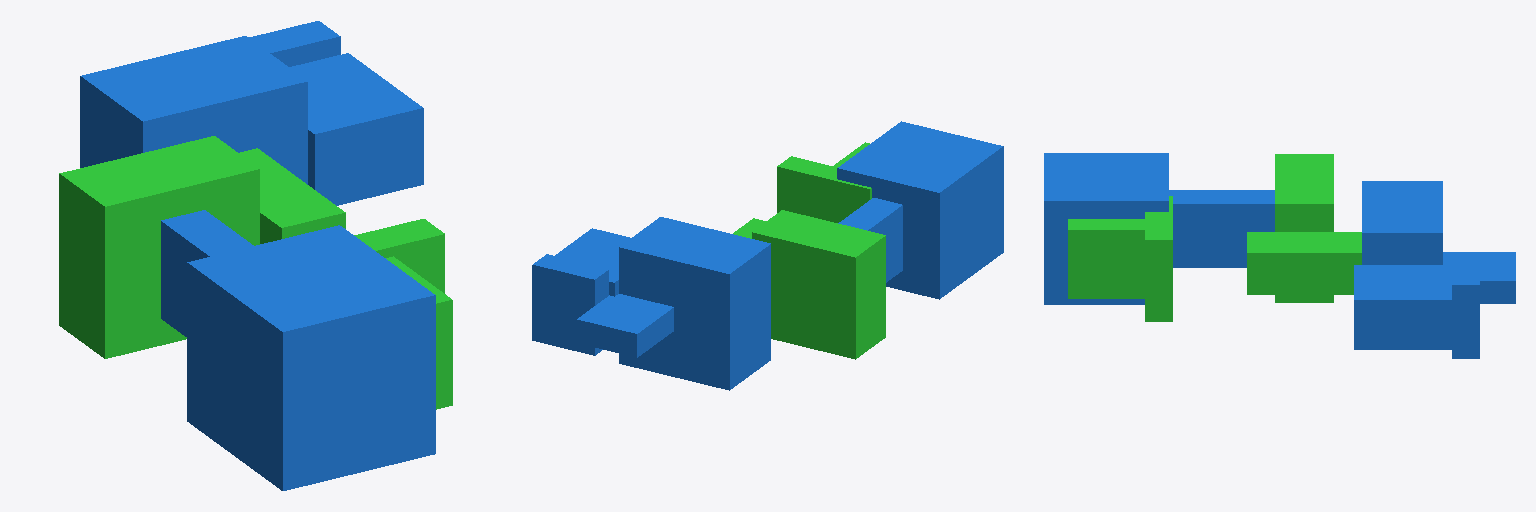
The robot description file, URDF, robot "robot":
<robot name = "robot">
    <link name="Link0">
        <inertial>
            <origin xyz="0 0 2" rpy="0 0 0"/>
            <mass value="0.16188097376707722" />
            <inertia ixx="100" ixy="0" ixz="0" iyy="100" iyz="0" izz="100" />
        </inertial>
        <visual>
            <origin xyz="0 0 2" rpy="0 0 0"/>
            <geometry>
                <box size="0.667022004702574 0.9703244934421581 0.2501143748173449" />
            </geometry>
            <material name="No Sensor">
                <color rgba="0.184 0.553 0.933 1.0"/>
            </material>
        </visual>
        <collision>
            <origin xyz="0 0 2" rpy="0 0 0"/>
            <geometry>
                <box size="0.667022004702574 0.9703244934421581 0.2501143748173449" />
            </geometry>
        </collision>
    </link>
    <joint name="Link0_Link1" type="revolute">
       <parent link="Link0"/>
       <child  link="Link1"/>
       <origin rpy="0 0 0" xyz="0.333511002351287 0 2" />
       <axis xyz="1 0 0"/>
       <limit effort="0.0" lower="-3.14159" upper="3.14159" velocity="0.0"/>
    </joint>
    <link name="Link1">
        <inertial>
            <origin xyz="0.3429974510710019 0 0" rpy="0 0 0"/>
            <mass value="0.15136330318765737" />
            <inertia ixx="100" ixy="0" ixz="0" iyy="100" iyz="0" izz="100" />
        </inertial>
        <visual>
            <origin xyz="0.3429974510710019 0 0" rpy="0 0 0"/>
            <geometry>
                <box size="0.6859949021420038 0.27592623182789133 0.7996624778787091" />
            </geometry>
            <material name="No Sensor">
                <color rgba="0.184 0.553 0.933 1.0"/>
            </material>
        </visual>
        <collision>
            <origin xyz="0.3429974510710019 0 0" rpy="0 0 0"/>
            <geometry>
                <box size="0.6859949021420038 0.27592623182789133 0.7996624778787091" />
            </geometry>
        </collision>
    </link>
    <joint name="Link1_Link2" type="revolute">
       <parent link="Link1"/>
       <child  link="Link2"/>
       <origin rpy="0 0 0" xyz="0.3429974510710019 -0.13796311591394567 0.0" />
       <axis xyz="1 0 0"/>
       <limit effort="0.0" lower="-3.14159" upper="3.14159" velocity="0.0"/>
    </joint>
    <link name="Link2">
        <inertial>
            <origin xyz="0.0 -0.4790739113090524 0.0" rpy="0 0 0"/>
            <mass value="0.41502688459911957" />
            <inertia ixx="100" ixy="0" ixz="0" iyy="100" iyz="0" izz="100" />
        </inertial>
        <visual>
            <origin xyz="0.0 -0.4790739113090524 0.0" rpy="0 0 0"/>
            <geometry>
                <box size="0.8007979025745755 0.9581478226181048 0.5409047389129443" />
            </geometry>
            <material name="No Sensor">
                <color rgba="0.184 0.553 0.933 1.0"/>
            </material>
        </visual>
        <collision>
            <origin xyz="0.0 -0.4790739113090524 0.0" rpy="0 0 0"/>
            <geometry>
                <box size="0.8007979025745755 0.9581478226181048 0.5409047389129443" />
            </geometry>
        </collision>
    </link>
    <joint name="Link2_Link3" type="revolute">
       <parent link="Link2"/>
       <child  link="Link3"/>
       <origin rpy="0 0 0" xyz="-0.40039895128728775 -0.4790739113090524 0.0" />
       <axis xyz="1 0 0"/>
       <limit effort="0.0" lower="-3.14159" upper="3.14159" velocity="0.0"/>
    </joint>
    <link name="Link3">
        <inertial>
            <origin xyz="-0.6085149195068383 0.0 0.0" rpy="0 0 0"/>
            <mass value="1.1863161466101886" />
            <inertia ixx="100" ixy="0" ixz="0" iyy="100" iyz="0" izz="100" />
        </inertial>
        <visual>
            <origin xyz="-0.6085149195068383 0.0 0.0" rpy="0 0 0"/>
            <geometry>
                <box size="1.2170298390136767 0.7972322491757223 1.2226843599648842" />
            </geometry>
            <material name="No Sensor">
                <color rgba="0.184 0.553 0.933 1.0"/>
            </material>
        </visual>
        <collision>
            <origin xyz="-0.6085149195068383 0.0 0.0" rpy="0 0 0"/>
            <geometry>
                <box size="1.2170298390136767 0.7972322491757223 1.2226843599648842" />
            </geometry>
        </collision>
    </link>
    <joint name="Link3_Link4" type="revolute">
       <parent link="Link3"/>
       <child  link="Link4"/>
       <origin rpy="0 0 0" xyz="-0.6085149195068383 -0.39861612458786116 0.0" />
       <axis xyz="1 0 0"/>
       <limit effort="0.0" lower="-3.14159" upper="3.14159" velocity="0.0"/>
    </joint>
    <link name="Link4">
        <inertial>
            <origin xyz="0.0 -0.5603661530886882 0.0" rpy="0 0 0"/>
            <mass value="0.24159438313137246" />
            <inertia ixx="100" ixy="0" ixz="0" iyy="100" iyz="0" izz="100" />
        </inertial>
        <visual>
            <origin xyz="0.0 -0.5603661530886882 0.0" rpy="0 0 0"/>
            <geometry>
                <box size="0.4719931710897395 1.1207323061773764 0.4567191553394264" />
            </geometry>
            <material name="Sensor">
                <color rgba="0.239 0.875 0.282 1.0"/>
            </material>
        </visual>
        <collision>
            <origin xyz="0.0 -0.5603661530886882 0.0" rpy="0 0 0"/>
            <geometry>
                <box size="0.4719931710897395 1.1207323061773764 0.4567191553394264" />
            </geometry>
        </collision>
    </link>
    <joint name="Link4_Link5" type="revolute">
       <parent link="Link4"/>
       <child  link="Link5"/>
       <origin rpy="0 0 0" xyz="-0.23599658554486974 -0.5603661530886882 0.0" />
       <axis xyz="0 0 1"/>
       <limit effort="0.0" lower="-3.14159" upper="3.14159" velocity="0.0"/>
    </joint>
    <link name="Link5">
        <inertial>
            <origin xyz="-0.5714300757180009 0.0 0.0" rpy="0 0 0"/>
            <mass value="0.7124975516153823" />
            <inertia ixx="100" ixy="0" ixz="0" iyy="100" iyz="0" izz="100" />
        </inertial>
        <visual>
            <origin xyz="-0.5714300757180009 0.0 0.0" rpy="0 0 0"/>
            <geometry>
                <box size="1.1428601514360017 0.5819798053011772 1.0712291230578317" />
            </geometry>
            <material name="Sensor">
                <color rgba="0.239 0.875 0.282 1.0"/>
            </material>
        </visual>
        <collision>
            <origin xyz="-0.5714300757180009 0.0 0.0" rpy="0 0 0"/>
            <geometry>
                <box size="1.1428601514360017 0.5819798053011772 1.0712291230578317" />
            </geometry>
        </collision>
    </link>
    <joint name="Link5_Link6" type="revolute">
       <parent link="Link5"/>
       <child  link="Link6"/>
       <origin rpy="0 0 0" xyz="-0.5714300757180009 -0.2909899026505886 0.0" />
       <axis xyz="0 0 1"/>
       <limit effort="0.0" lower="-3.14159" upper="3.14159" velocity="0.0"/>
    </joint>
    <link name="Link6">
        <inertial>
            <origin xyz="0.0 -0.5149593961200574 0.0" rpy="0 0 0"/>
            <mass value="0.23135440586714634" />
            <inertia ixx="100" ixy="0" ixz="0" iyy="100" iyz="0" izz="100" />
        </inertial>
        <visual>
            <origin xyz="0.0 -0.5149593961200574 0.0" rpy="0 0 0"/>
            <geometry>
                <box size="0.32630828937395717 1.0299187922401147 0.6884092314408935" />
            </geometry>
            <material name="No Sensor">
                <color rgba="0.184 0.553 0.933 1.0"/>
            </material>
        </visual>
        <collision>
            <origin xyz="0.0 -0.5149593961200574 0.0" rpy="0 0 0"/>
            <geometry>
                <box size="0.32630828937395717 1.0299187922401147 0.6884092314408935" />
            </geometry>
        </collision>
    </link>
    <joint name="Link6_Link7" type="revolute">
       <parent link="Link6"/>
       <child  link="Link7"/>
       <origin rpy="0 0 0" xyz="0.0 -1.0299187922401147 0.0" />
       <axis xyz="0 1 0"/>
       <limit effort="0.0" lower="-3.14159" upper="3.14159" velocity="0.0"/>
    </joint>
    <link name="Link7">
        <inertial>
            <origin xyz="0.0 -0.6092703314104659 0.0" rpy="0 0 0"/>
            <mass value="1.5321151085328013" />
            <inertia ixx="100" ixy="0" ixz="0" iyy="100" iyz="0" izz="100" />
        </inertial>
        <visual>
            <origin xyz="0.0 -0.6092703314104659 0.0" rpy="0 0 0"/>
            <geometry>
                <box size="1.1234294027918161 1.2185406628209319 1.11919454021392" />
            </geometry>
            <material name="No Sensor">
                <color rgba="0.184 0.553 0.933 1.0"/>
            </material>
        </visual>
        <collision>
            <origin xyz="0.0 -0.6092703314104659 0.0" rpy="0 0 0"/>
            <geometry>
                <box size="1.1234294027918161 1.2185406628209319 1.11919454021392" />
            </geometry>
        </collision>
    </link>
    <joint name="Link7_Link8" type="revolute">
       <parent link="Link7"/>
       <child  link="Link8"/>
       <origin rpy="0 0 0" xyz="0.5617147013959081 -0.6092703314104659 0.0" />
       <axis xyz="1 0 0"/>
       <limit effort="0.0" lower="-3.14159" upper="3.14159" velocity="0.0"/>
    </joint>
    <link name="Link8">
        <inertial>
            <origin xyz="0.13018707694284998 0.0 0.0" rpy="0 0 0"/>
            <mass value="0.14599907611527876" />
            <inertia ixx="100" ixy="0" ixz="0" iyy="100" iyz="0" izz="100" />
        </inertial>
        <visual>
            <origin xyz="0.13018707694284998 0.0 0.0" rpy="0 0 0"/>
            <geometry>
                <box size="0.26037415388569995 0.7518745921487388 0.7457732931341461" />
            </geometry>
            <material name="Sensor">
                <color rgba="0.239 0.875 0.282 1.0"/>
            </material>
        </visual>
        <collision>
            <origin xyz="0.13018707694284998 0.0 0.0" rpy="0 0 0"/>
            <geometry>
                <box size="0.26037415388569995 0.7518745921487388 0.7457732931341461" />
            </geometry>
        </collision>
    </link>
    <joint name="Link8_Link9" type="revolute">
       <parent link="Link8"/>
       <child  link="Link9"/>
       <origin rpy="0 0 0" xyz="0.13018707694284998 0.3759372960743694 0.0" />
       <axis xyz="0 1 0"/>
       <limit effort="0.0" lower="-3.14159" upper="3.14159" velocity="0.0"/>
    </joint>
    <link name="Link9">
        <inertial>
            <origin xyz="0.0 0.13537597467970075 0.0" rpy="0 0 0"/>
            <mass value="0.2443504350150486" />
            <inertia ixx="100" ixy="0" ixz="0" iyy="100" iyz="0" izz="100" />
        </inertial>
        <visual>
            <origin xyz="0.0 0.13537597467970075 0.0" rpy="0 0 0"/>
            <geometry>
                <box size="1.0213206432667459 0.2707519493594015 0.8836482349262754" />
            </geometry>
            <material name="Sensor">
                <color rgba="0.239 0.875 0.282 1.0"/>
            </material>
        </visual>
        <collision>
            <origin xyz="0.0 0.13537597467970075 0.0" rpy="0 0 0"/>
            <geometry>
                <box size="1.0213206432667459 0.2707519493594015 0.8836482349262754" />
            </geometry>
        </collision>
    </link>
</robot>

--- Facts derived from the render (not from the file) ---
Views: 3 orthographic renders of the robot side by side, from view 1: azimuth 30°, elevation 25°; view 2: azimuth 150°, elevation 25°; view 3: azimuth 270°, elevation 25°.
Model robot with 10 links and 9 joints (9 revolute), rooted at Link0, posed all joints at 0.
Visible links, largest first — view 1: Link7, Link5, Link3, Link2, Link6, Link4, Link9, Link1, Link8; view 2: Link3, Link7, Link5, Link1, Link0, Link9, Link6, Link2; view 3: Link7, Link2, Link4, Link6, Link3, Link8, Link5, Link9, Link1, Link0.
Boxes of the visible links, x1=… form: Link7: x1=187, y1=225, x2=435, y2=490; Link5: x1=59, y1=136, x2=259, y2=358; Link3: x1=80, y1=36, x2=307, y2=184; Link2: x1=290, y1=53, x2=423, y2=205; Link6: x1=161, y1=210, x2=253, y2=336; Link4: x1=239, y1=148, x2=345, y2=243; Link9: x1=354, y1=219, x2=444, y2=293; Link1: x1=249, y1=21, x2=340, y2=66; Link8: x1=386, y1=256, x2=452, y2=409; Link3: x1=619, y1=217, x2=770, y2=390; Link7: x1=837, y1=121, x2=1003, y2=299; Link5: x1=752, y1=210, x2=885, y2=359; Link1: x1=532, y1=254, x2=608, y2=355; Link0: x1=577, y1=294, x2=673, y2=357; Link9: x1=777, y1=156, x2=871, y2=222; Link6: x1=838, y1=198, x2=902, y2=282; Link2: x1=555, y1=228, x2=630, y2=296; Link7: x1=1044, y1=153, x2=1168, y2=304; Link2: x1=1354, y1=265, x2=1451, y2=349; Link4: x1=1247, y1=232, x2=1361, y2=294; Link6: x1=1169, y1=190, x2=1274, y2=267; Link3: x1=1362, y1=181, x2=1442, y2=264; Link8: x1=1068, y1=219, x2=1144, y2=298; Link5: x1=1275, y1=154, x2=1333, y2=302; Link9: x1=1145, y1=196, x2=1172, y2=321; Link1: x1=1452, y1=255, x2=1479, y2=358; Link0: x1=1443, y1=252, x2=1515, y2=303.
Size in the robot's own frame: 2.79 by 4.6 by 1.22 metres.
Geometry: primitives only (box / cylinder / sphere), no mesh files.